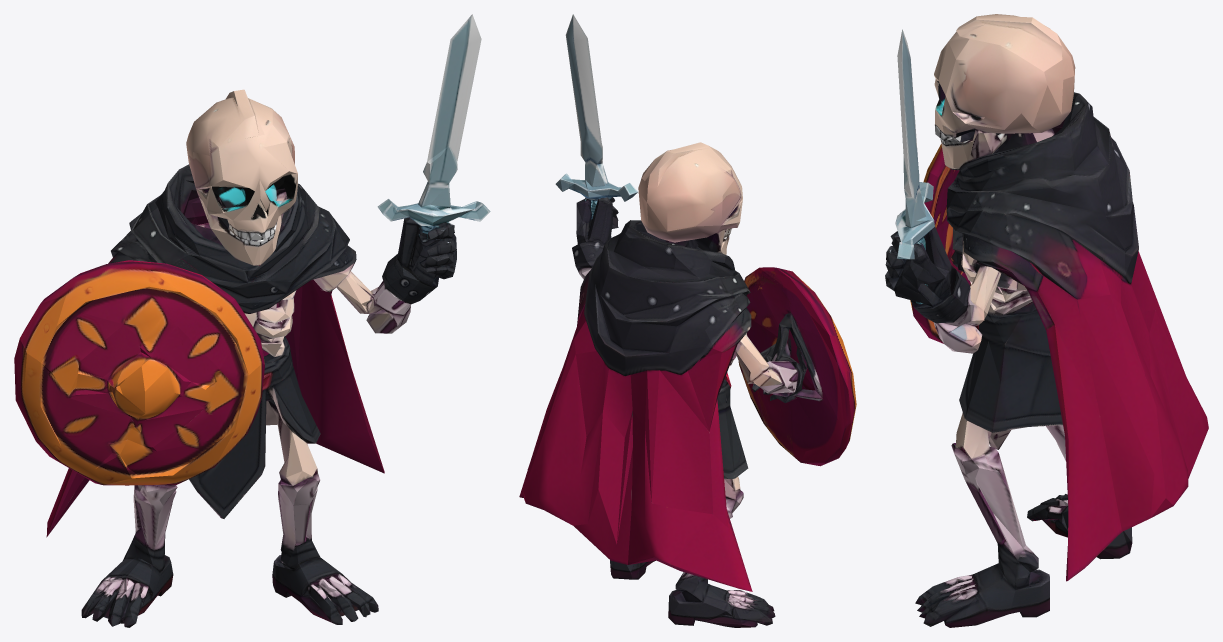
Rendered from hw-skeleton.glb.
3 renders of one model, left to right at view 1: azimuth 30°, elevation 25°; view 2: azimuth 150°, elevation 25°; view 3: azimuth 270°, elevation 25°, orthographic. The views are drawn at different scales.
Bounding box in the file's own units: 1.38 × 1.89 × 0.8619.
1 material, 1 textured.
